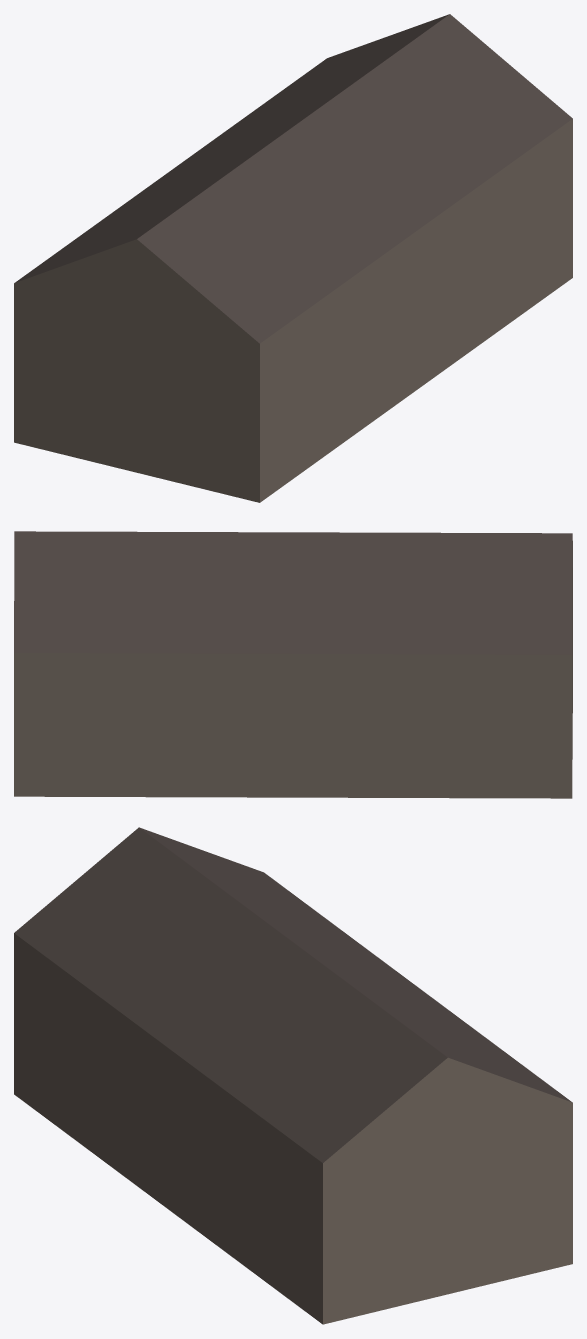
The picture shows the model from 3 angles, top to bottom: view 1: azimuth 30°, elevation 25°; view 2: azimuth 150°, elevation 25°; view 3: azimuth 270°, elevation 25°; orthographic projection. The views are drawn at different scales.
Visible parts, largest first — view 1: HP-w369237964; view 2: HP-w369237964; view 3: HP-w369237964.
Boxes of the visible parts, x1,y1,x2,y2 form: HP-w369237964: (14, 14, 572, 502); HP-w369237964: (14, 531, 572, 798); HP-w369237964: (14, 827, 572, 1324).
Size of the model in its own units: 23.19 by 8.8 by 18.84.
